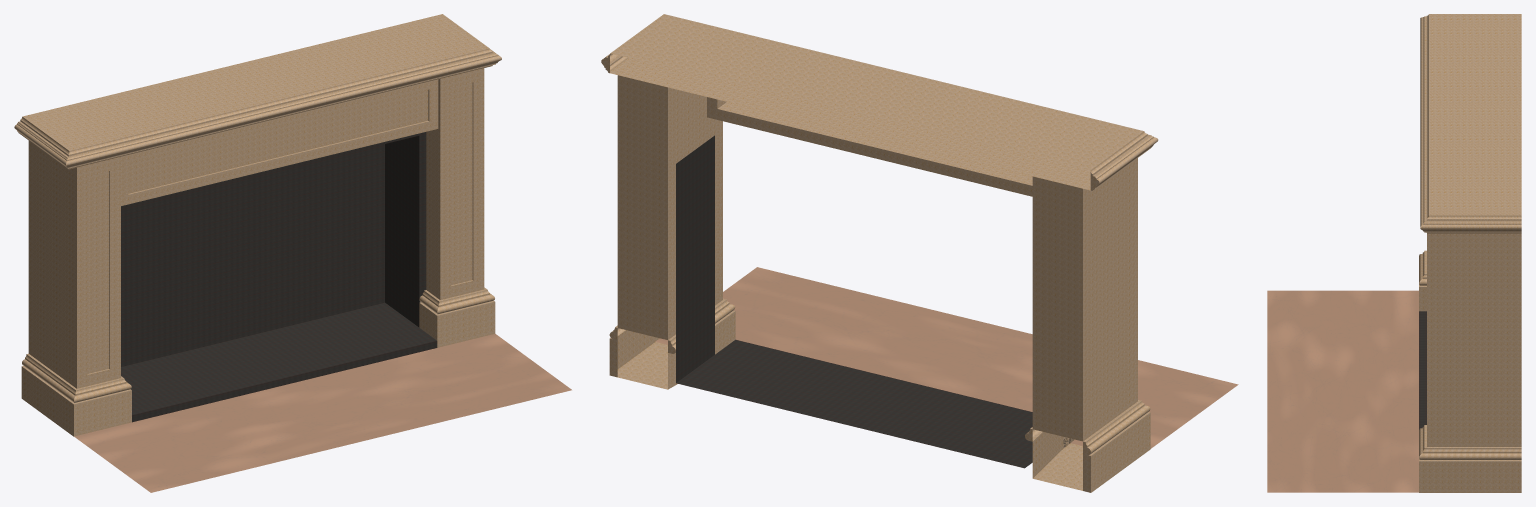
The model's file is Fireplace.obj.
3 views of the same model, side by side, from view 1: azimuth 30°, elevation 25°; view 2: azimuth 150°, elevation 25°; view 3: azimuth 270°, elevation 25° (orthographic). The views are drawn at different scales.
Visible parts, largest first — view 1: Mesh7 Group7 Model, PROCEDURAL_MESHES_PLANE#0, Mesh6 Group6 Model, Mesh2 Group2 Model, Mesh3 Group3 Model, Mesh5 Group5 Model, Mesh1 Group1 Model, Mesh4 Group4 Model; view 2: Mesh6 Group6 Model, PROCEDURAL_MESHES_PLANE#0, Mesh7 Group7 Model, Mesh2 Group2 Model, Mesh5 Group5 Model, Mesh3 Group3 Model, Mesh1 Group1 Model, Mesh4 Group4 Model; view 3: PROCEDURAL_MESHES_PLANE#0, Mesh6 Group6 Model, Mesh5 Group5 Model, Mesh4 Group4 Model, Mesh7 Group7 Model, Mesh1 Group1 Model.
Part boxes in pixels (box(x1,y1,x2,y2)): Mesh7 Group7 Model: box(121, 132, 437, 422); PROCEDURAL_MESHES_PLANE#0: box(74, 333, 571, 492); Mesh6 Group6 Model: box(14, 14, 501, 169); Mesh2 Group2 Model: box(28, 141, 120, 388); Mesh3 Group3 Model: box(121, 79, 438, 205); Mesh5 Group5 Model: box(426, 68, 484, 299); Mesh1 Group1 Model: box(21, 353, 131, 436); Mesh4 Group4 Model: box(419, 287, 495, 347); Mesh6 Group6 Model: box(601, 14, 1158, 190); PROCEDURAL_MESHES_PLANE#0: box(655, 267, 1238, 448); Mesh7 Group7 Model: box(676, 135, 1073, 468); Mesh2 Group2 Model: box(1032, 158, 1137, 441); Mesh5 Group5 Model: box(617, 60, 722, 339); Mesh3 Group3 Model: box(707, 97, 1032, 196); Mesh1 Group1 Model: box(1025, 400, 1150, 492); Mesh4 Group4 Model: box(609, 298, 735, 389); PROCEDURAL_MESHES_PLANE#0: box(1267, 290, 1418, 492); Mesh6 Group6 Model: box(1420, 14, 1521, 233); Mesh5 Group5 Model: box(1427, 233, 1521, 446); Mesh4 Group4 Model: box(1419, 425, 1521, 492); Mesh7 Group7 Model: box(1419, 311, 1426, 429); Mesh1 Group1 Model: box(1419, 250, 1426, 311).
Bounding box in the file's own units: 157 × 96.87 × 80.49.
